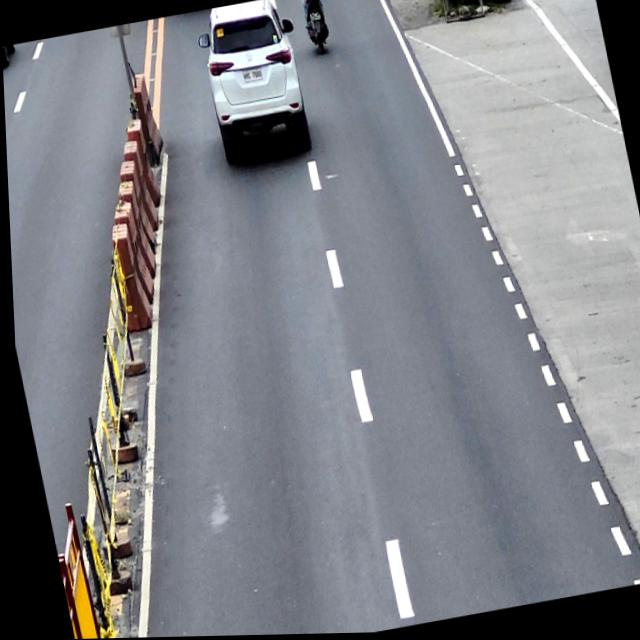Car: (191, 0, 318, 167)
License-Plate: (240, 66, 264, 85)
